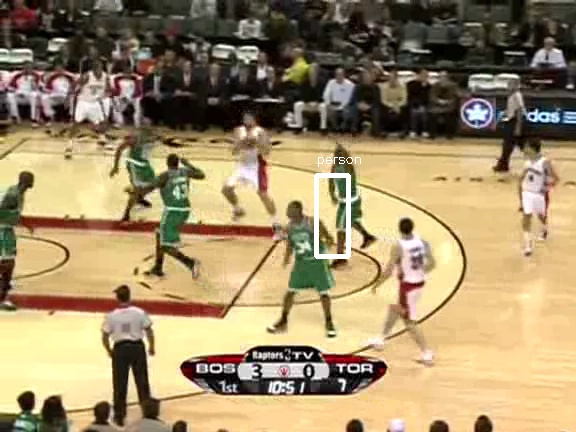person: (330, 157, 364, 238), (329, 157, 363, 238), (331, 157, 365, 238), (330, 156, 364, 237), (330, 158, 364, 239)
target_negative: (359, 289, 565, 384), (123, 210, 317, 307), (293, 65, 313, 265), (493, 77, 533, 164), (217, 308, 274, 326), (550, 271, 566, 277)
